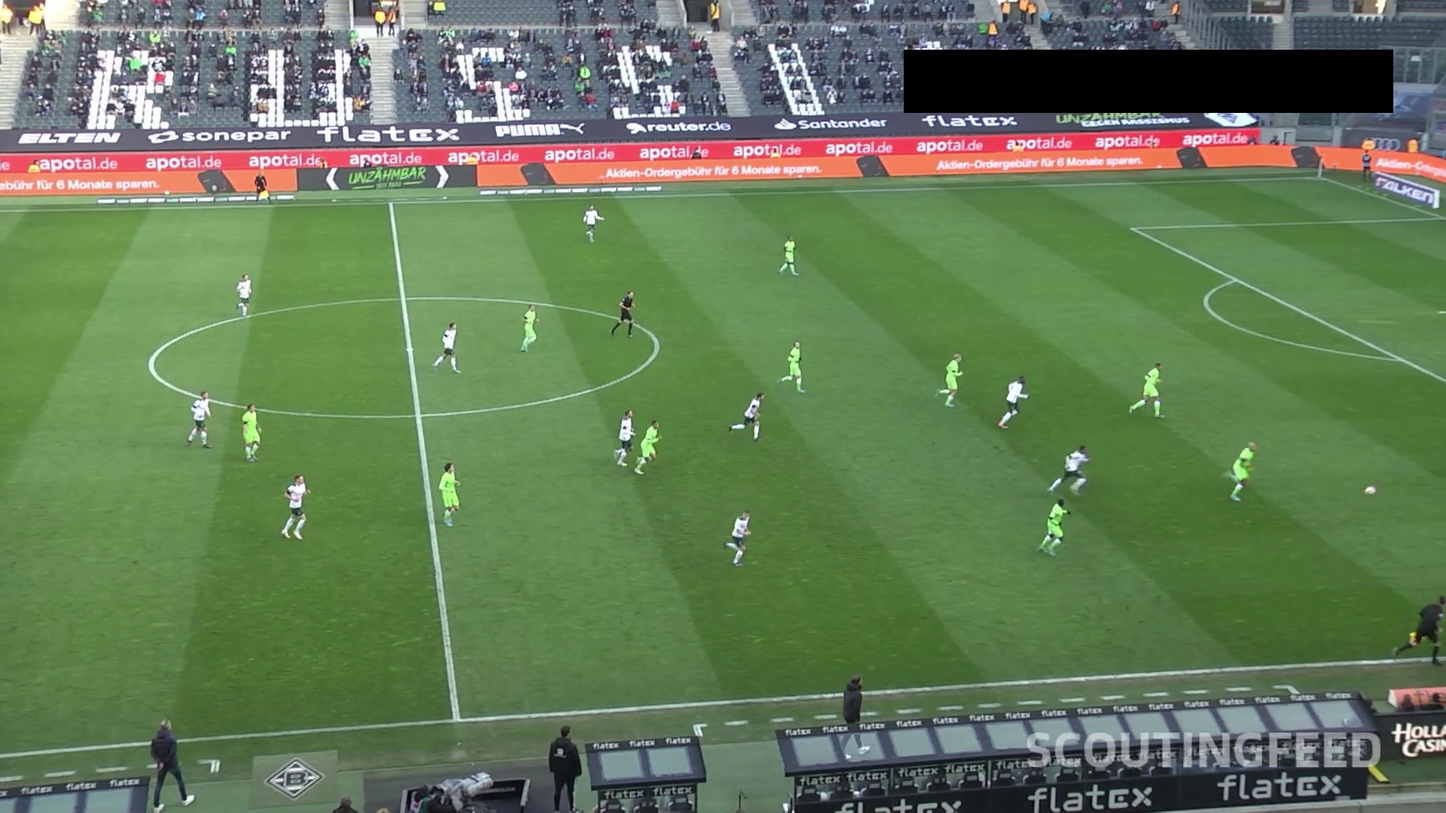ball: (1113, 553, 1142, 569)
player: (759, 382, 803, 431), (889, 317, 933, 366), (383, 463, 427, 512), (484, 480, 528, 528), (1019, 293, 1063, 341), (528, 260, 571, 309), (629, 325, 672, 374), (557, 447, 600, 496), (658, 463, 701, 512), (687, 350, 730, 398), (817, 350, 860, 398), (962, 415, 1005, 463)
referee: (716, 276, 759, 325)
